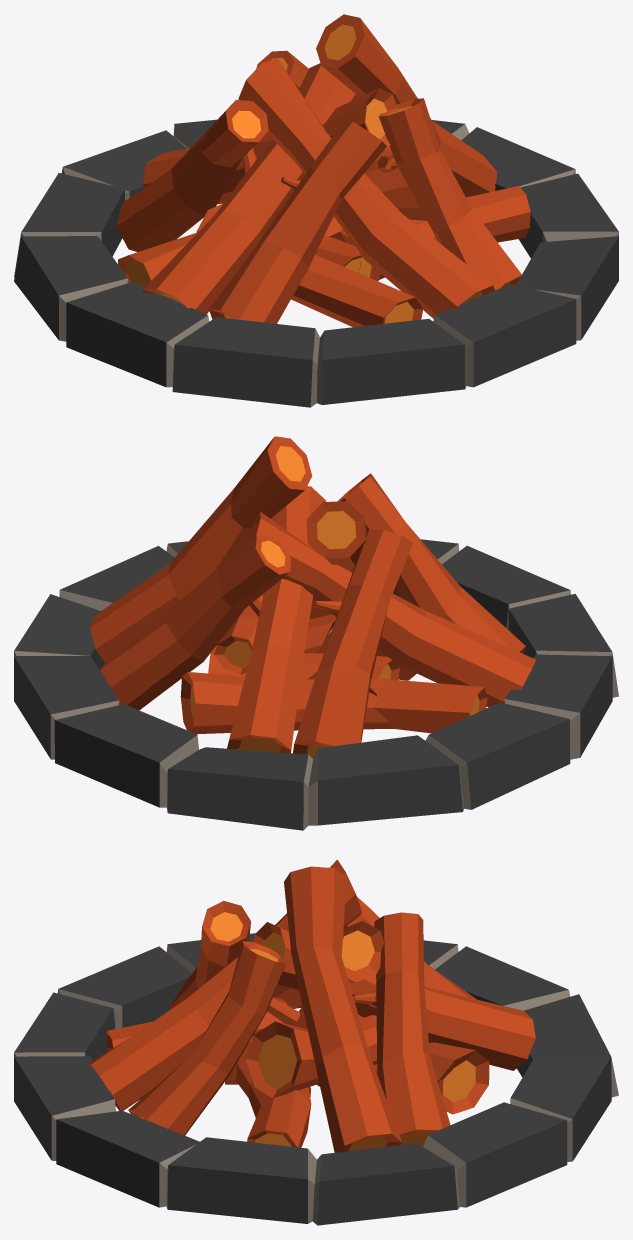
File: Item17.fbx
3 renders of one model, top to bottom at view 1: azimuth 30°, elevation 25°; view 2: azimuth 150°, elevation 25°; view 3: azimuth 270°, elevation 25°, orthographic.
Visible parts, largest first — view 1: Item17; view 2: Item17; view 3: Item17.
Part boxes in pixels (x1,y1,x2,y2): Item17: (14, 14, 618, 407); Item17: (14, 436, 618, 830); Item17: (14, 859, 618, 1225).
Size of what is drawn, in the model's own units: 64.76 by 31.31 by 65.38.
Materials: 1 (1 with a texture image).
